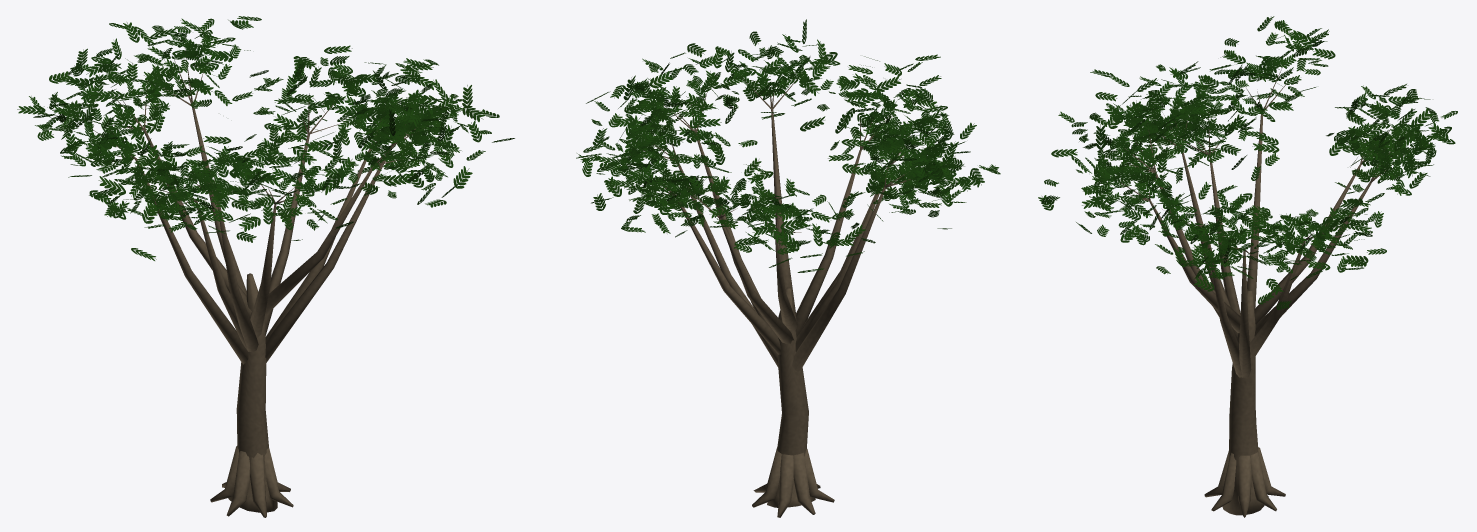
3 views of the same model, side by side, from view 1: azimuth 30°, elevation 25°; view 2: azimuth 150°, elevation 25°; view 3: azimuth 270°, elevation 25° (orthographic). The views are drawn at different scales.
Visible parts, largest first — view 1: xa_cu_lod1; view 2: xa_cu_lod1; view 3: xa_cu_lod1.
Boxes of the visible parts, box(x1,y1,x2,y2) form: xa_cu_lod1: box(17, 16, 514, 517); xa_cu_lod1: box(576, 19, 1000, 517); xa_cu_lod1: box(1038, 16, 1457, 517).
Bounding box in the file's own units: 14.92 × 14.52 × 13.73.
2 materials, 2 textured.
